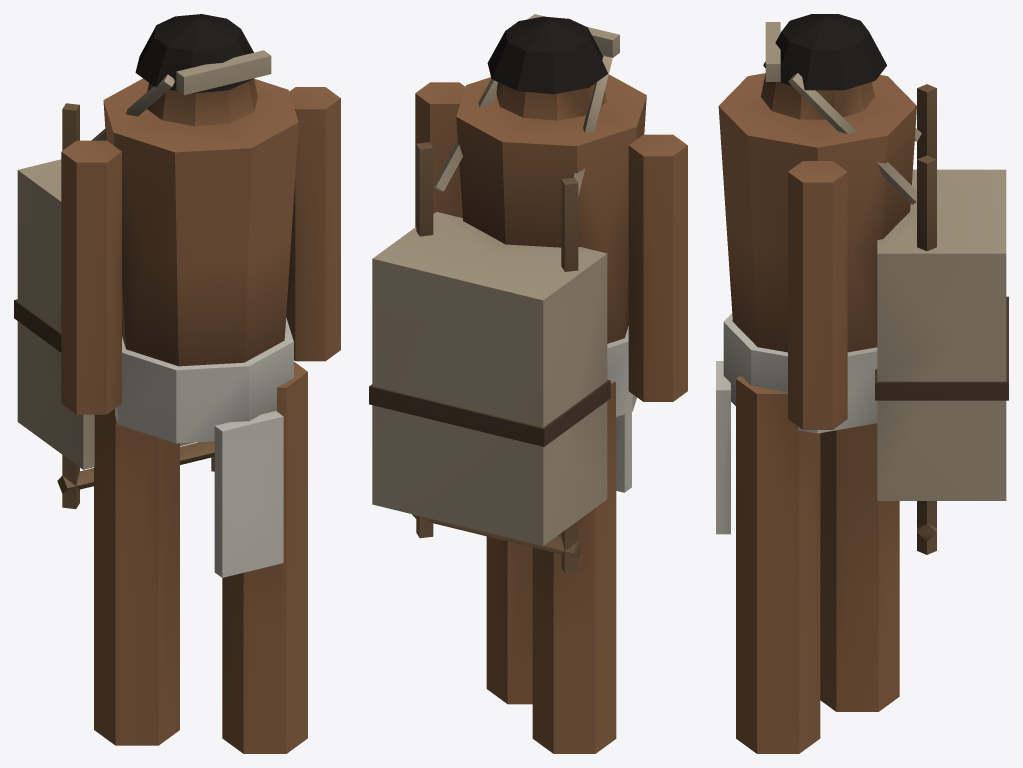
Rendered from porter.glb.
3 views of the same model, side by side, from view 1: azimuth 30°, elevation 25°; view 2: azimuth 150°, elevation 25°; view 3: azimuth 270°, elevation 25° (orthographic). The views are drawn at different scales.
Visible parts, largest first — view 1: base; view 2: base; view 3: base.
Boxes of the visible parts, x1,y1,x2,y2 form: base: (14, 14, 340, 753); base: (369, 14, 687, 753); base: (716, 14, 1008, 753).
Size of the model in its own units: 0.604 by 1.56 by 0.59.
